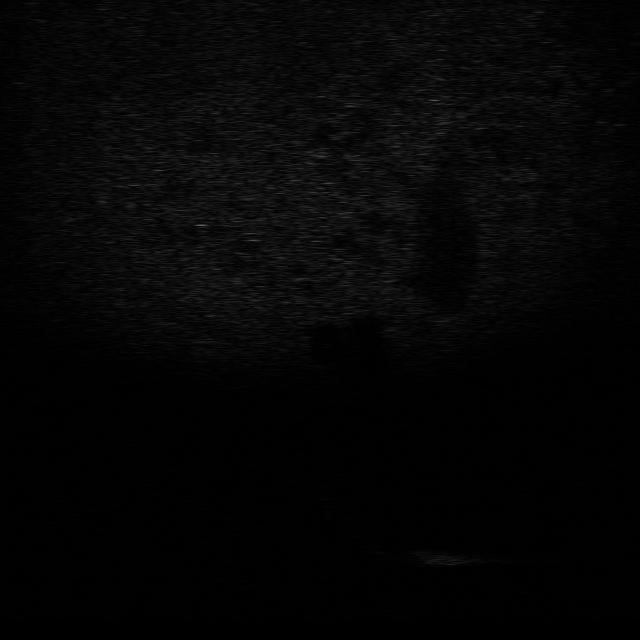ball: (306, 481, 342, 502)
metal bucket: (400, 546, 489, 569)
tyre: (338, 516, 388, 557)
